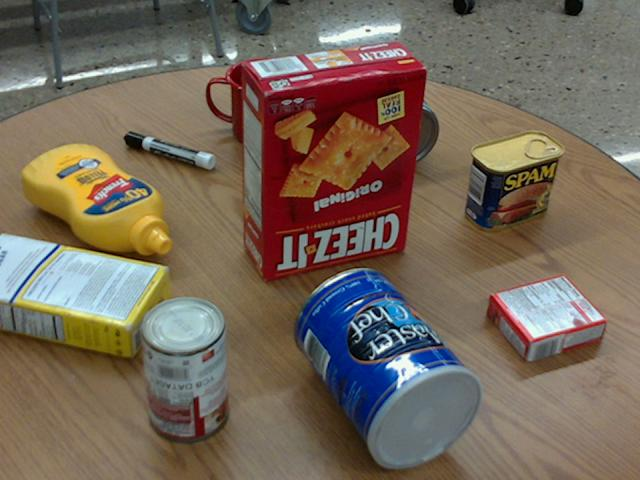cracker_box: (239, 39, 427, 281)
gelatin_box: (485, 272, 606, 360)
large_marker: (124, 131, 214, 168)
master_chef_can: (293, 266, 485, 469)
mug: (205, 58, 300, 147)
mustard_bottle: (22, 143, 171, 254)
potted_meat_can: (465, 130, 562, 231)
sugar_box: (0, 230, 170, 359)
tomato_soup_can: (141, 295, 231, 441)
tuna_fish_can: (363, 92, 438, 166)
